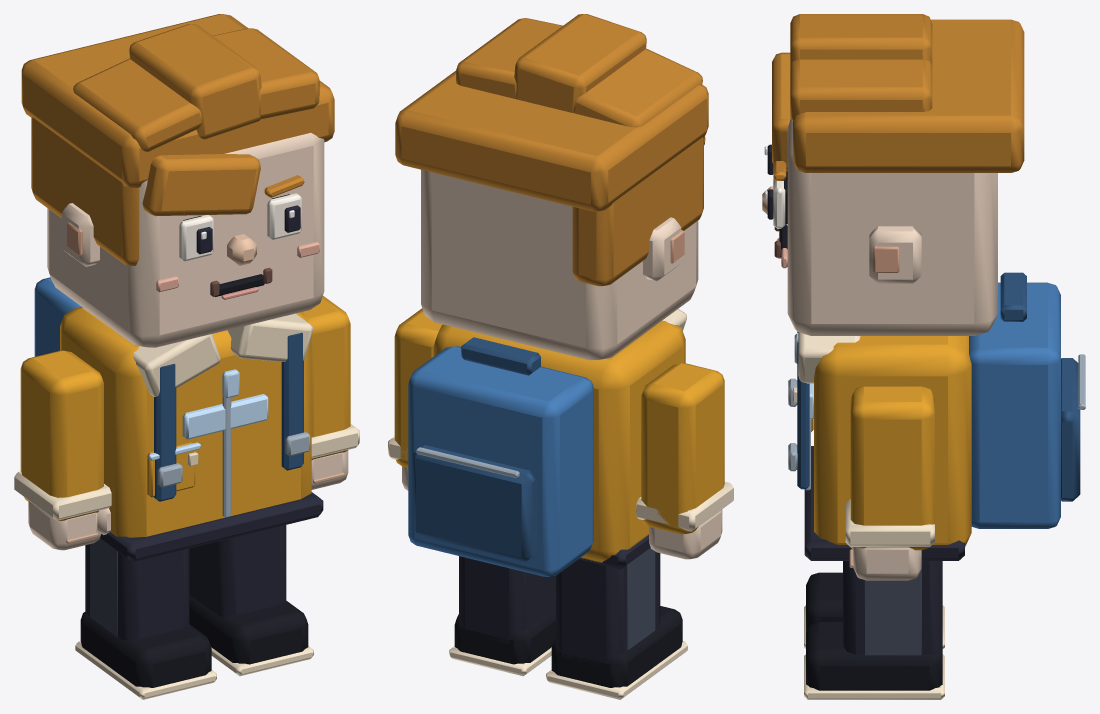
The model's file is intern.glb.
3 renders of one model, left to right at view 1: azimuth 30°, elevation 25°; view 2: azimuth 150°, elevation 25°; view 3: azimuth 270°, elevation 25°, orthographic. The views are drawn at different scales.
Visible parts, largest first — view 1: Face, Jacket, Hair, Arm_L_sleeve, HairTuft.001, HairSide, Leg_R_trouser, Fringe, HairTuft, Leg_L_trouser, Leg_L_shoe, Leg_R_shoe (+23 smaller); view 2: Face, Backpack, Hair, Jacket, Arm_L_sleeve, BackpackPocket, HairSide, HairTuft.001, Leg_L_trouser, Leg_R_trouser, HairTuft, Leg_L_shoe (+12 smaller); view 3: Face, Hair, Backpack, Jacket, Arm_R_sleeve, HairTuft.002, HairTuft.001, Leg_R_shoe, TrouserSeam.001, Leg_R_trouser, BackpackPocket, Ear.001 (+11 smaller).
Boxes of the visible parts, x1,y1,x2,y2 form: Face: (47, 133, 324, 347); Jacket: (60, 307, 311, 537); Hair: (21, 14, 334, 187); Arm_L_sleeve: (20, 350, 103, 520); HairTuft.001: (129, 24, 261, 139); HairSide: (31, 117, 139, 265); Leg_R_trouser: (189, 525, 286, 617); Fringe: (142, 154, 260, 216); HairTuft: (73, 58, 202, 151); Leg_L_trouser: (85, 544, 189, 640); Leg_L_shoe: (80, 611, 211, 687); Leg_R_shoe: (189, 595, 308, 664); Face: (421, 169, 698, 360); Backpack: (408, 346, 593, 576); Hair: (395, 71, 708, 211); Jacket: (433, 320, 685, 562); Arm_L_sleeve: (641, 363, 724, 534); BackpackPocket: (413, 445, 537, 561); HairSide: (572, 137, 703, 286); HairTuft.001: (514, 14, 646, 112); Leg_L_trouser: (556, 551, 660, 667); Leg_R_trouser: (459, 556, 555, 644); HairTuft: (573, 48, 702, 127); Leg_L_shoe: (551, 606, 682, 687); Face: (787, 117, 997, 335); Hair: (793, 19, 1024, 172); Backpack: (969, 282, 1060, 528); Jacket: (814, 336, 971, 546); Arm_R_sleeve: (850, 386, 934, 550); HairTuft.002: (790, 59, 932, 121); HairTuft.001: (790, 15, 932, 65); Leg_R_shoe: (806, 621, 942, 690); TrouserSeam.001: (864, 569, 921, 655); Leg_R_trouser: (843, 561, 942, 657); BackpackPocket: (1061, 358, 1080, 501); Ear.001: (869, 226, 921, 283).
Bounding box in the file's own units: 0.697 × 1.33 × 0.6155.
